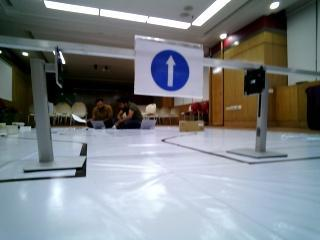straight: (130, 37, 205, 98)
